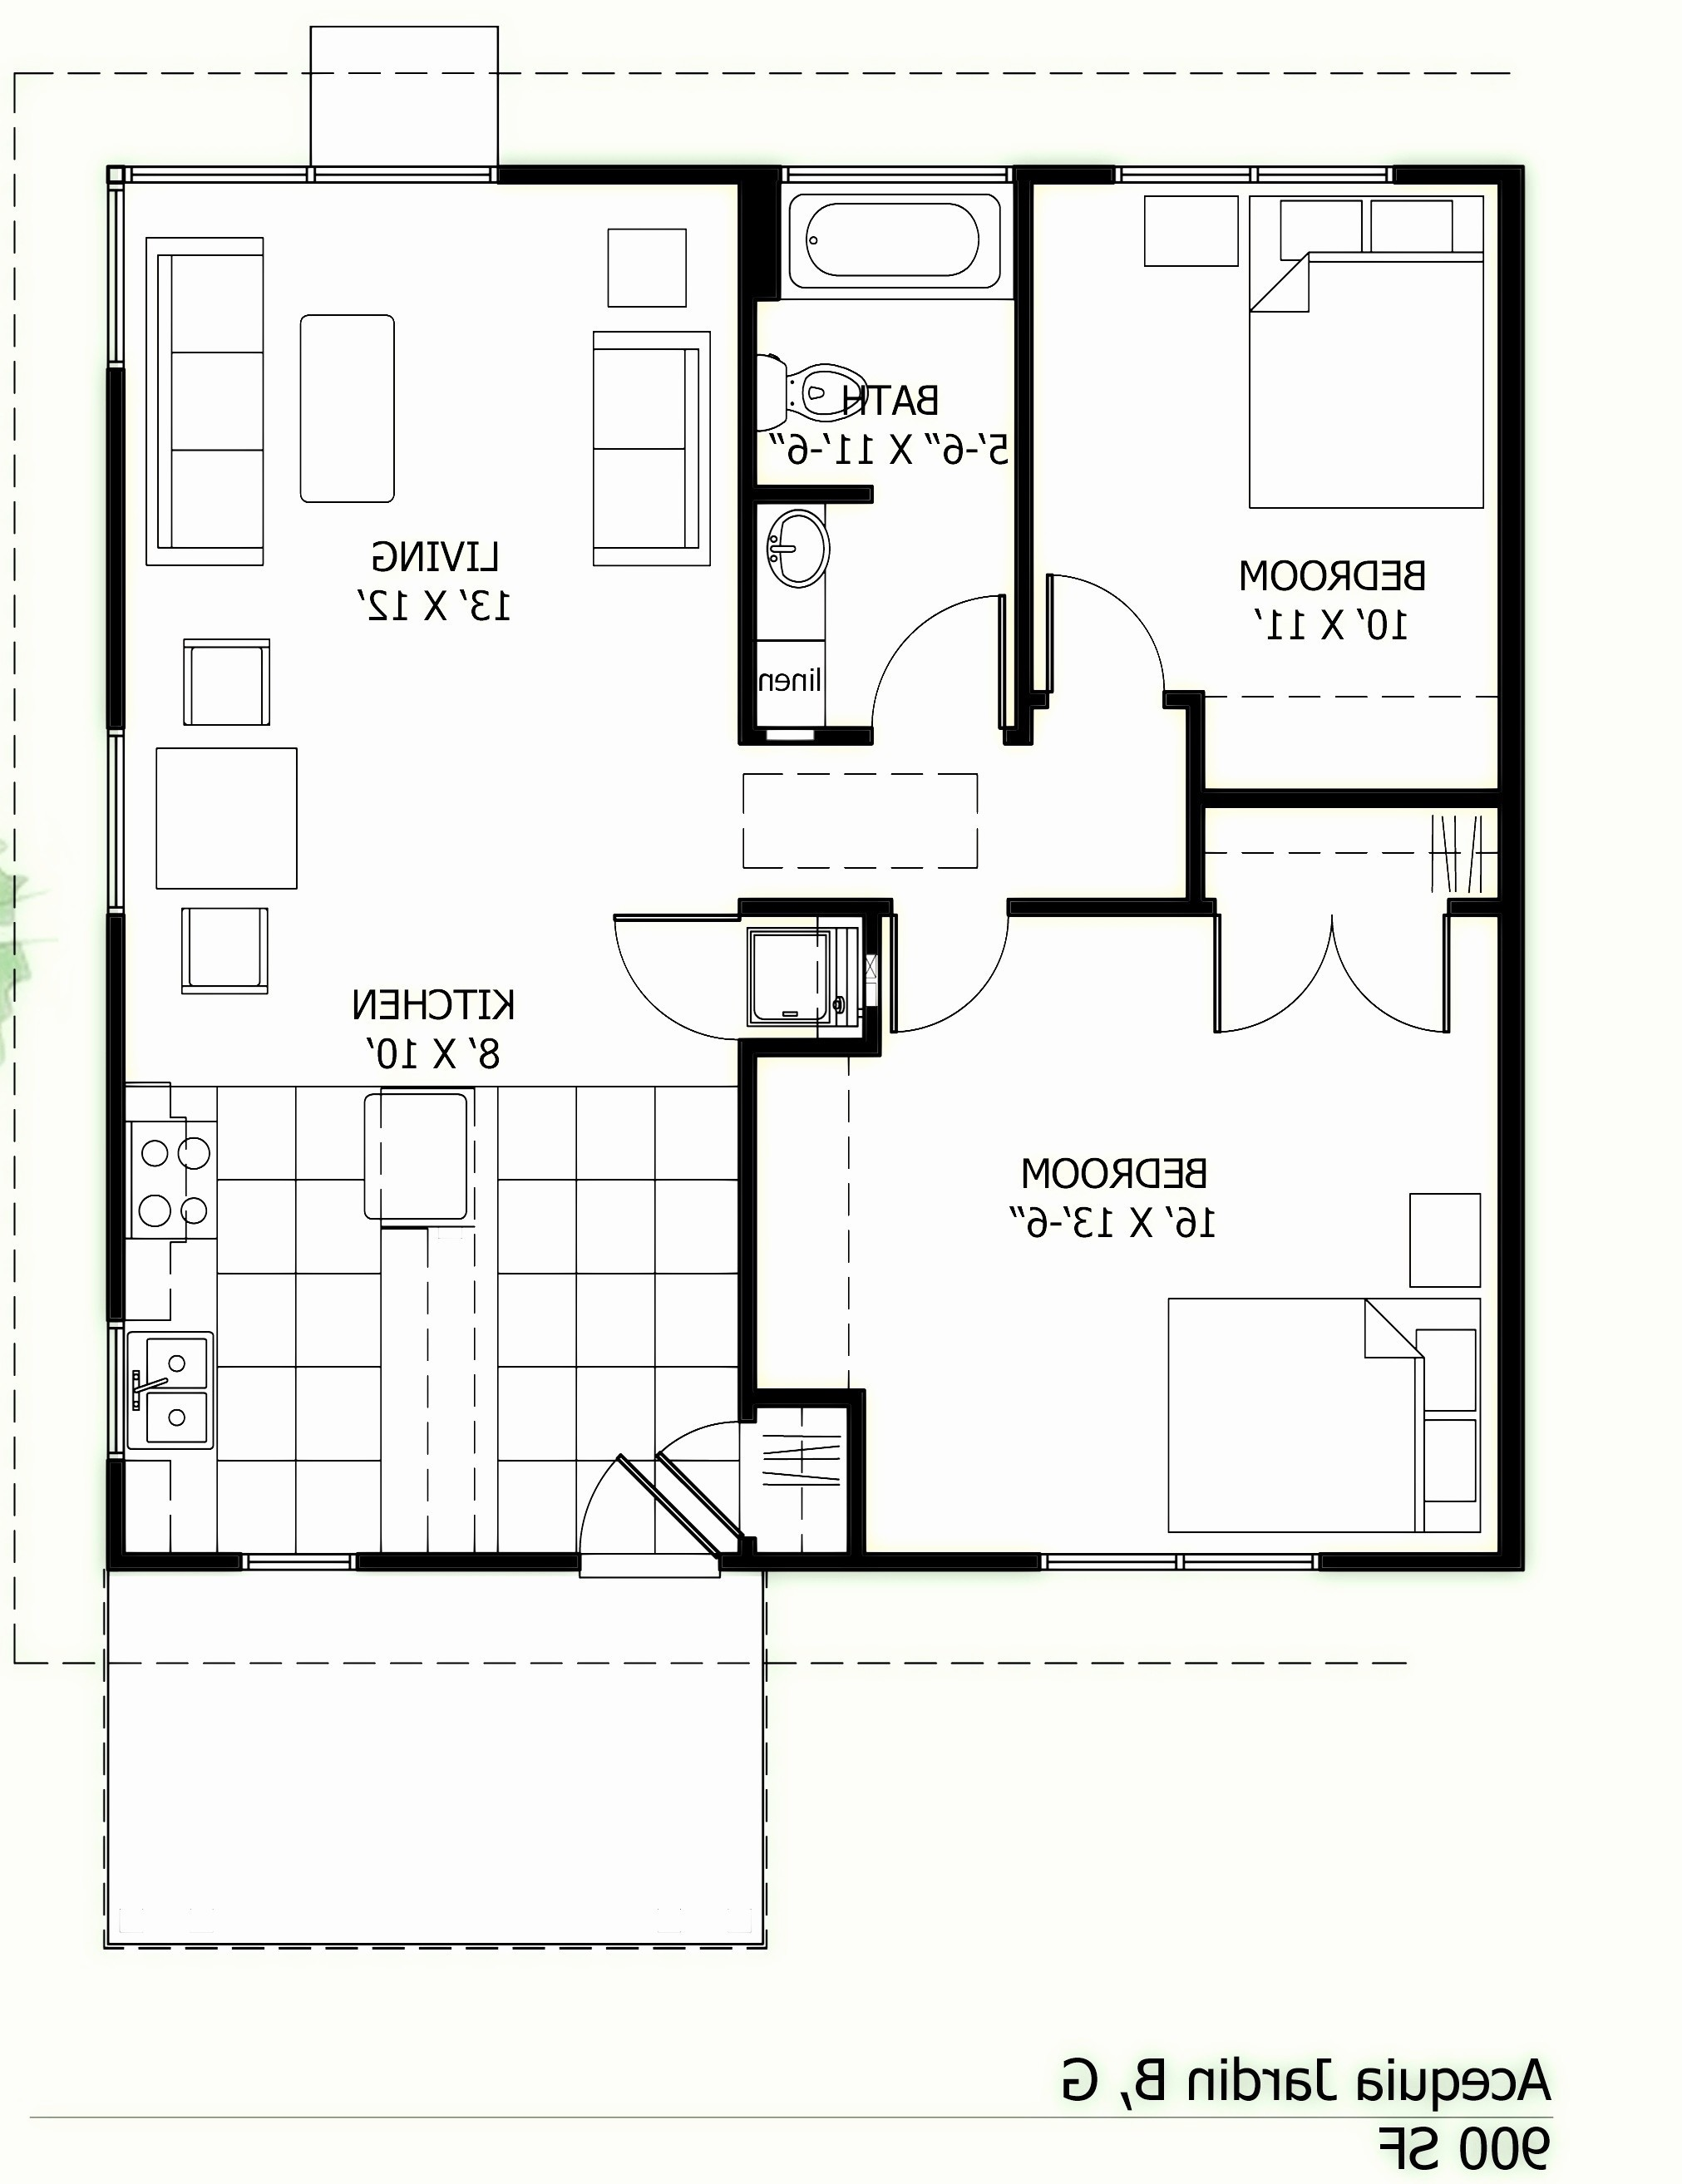door: (859, 571, 1005, 710), (590, 906, 726, 1046), (896, 914, 1005, 1043), (1046, 562, 1159, 677), (557, 1437, 659, 1539)
wall: (1488, 178, 1537, 800), (1481, 910, 1527, 1576), (78, 914, 131, 1323), (1005, 189, 1042, 701), (90, 366, 141, 721), (1187, 770, 1525, 820), (723, 302, 760, 751), (739, 1546, 1035, 1585), (353, 1546, 569, 1585), (735, 1043, 756, 1426), (730, 182, 790, 309), (1315, 1546, 1521, 1578), (496, 166, 779, 189), (1002, 891, 1212, 917), (1168, 691, 1212, 790), (746, 1380, 866, 1415), (1178, 797, 1212, 921), (90, 1465, 131, 1566), (113, 1550, 237, 1581), (839, 1403, 866, 1550), (756, 475, 878, 502), (1390, 166, 1530, 189), (1009, 163, 1125, 189)
